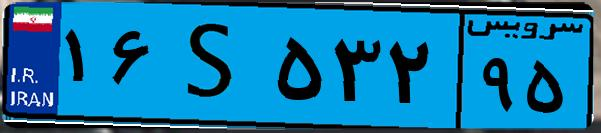1: (57, 26, 110, 100)
2: (385, 28, 445, 110)
3: (330, 28, 385, 110)
5: (270, 28, 330, 110), (525, 38, 570, 115)
6: (110, 28, 158, 98)
9: (475, 38, 525, 113)
S: (158, 12, 270, 120)
